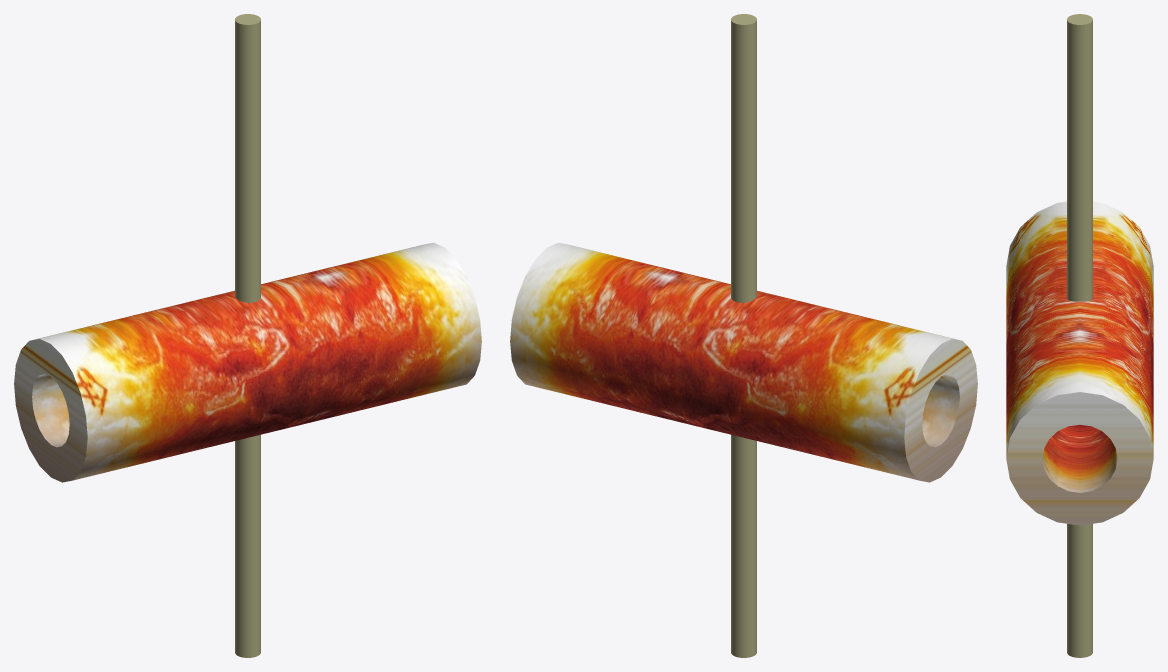
Rendered from OdenTikuwa.fbx.
3 renders of one model, left to right at view 1: azimuth 30°, elevation 25°; view 2: azimuth 150°, elevation 25°; view 3: azimuth 270°, elevation 25°, orthographic.
Parts seen in each view (by area): view 1: polySurface413; view 2: polySurface413; view 3: polySurface413.
Boxes of the visible parts, x1,y1,x2,y2 form: polySurface413: (14, 14, 481, 657); polySurface413: (510, 14, 977, 657); polySurface413: (1006, 14, 1153, 657).
Bounding box in the file's own units: 4.57 × 7.01 × 1.48.
